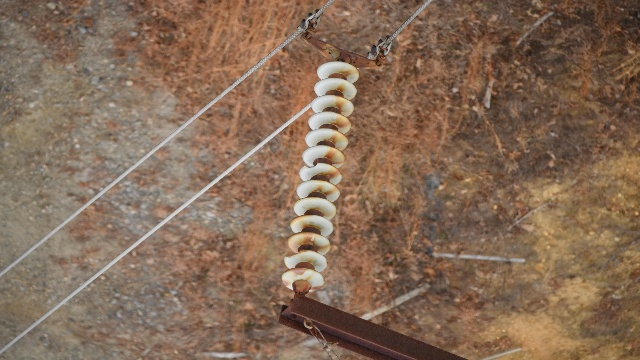broken_local: (302, 160, 320, 170), (285, 250, 303, 259)
insulator_unspecified: (279, 60, 360, 291)
pollution_flashover_local: (288, 231, 332, 255), (322, 148, 345, 166), (311, 183, 338, 196), (326, 130, 349, 144), (331, 114, 349, 131), (320, 166, 340, 180), (339, 67, 359, 78), (333, 95, 345, 112), (288, 265, 308, 275), (335, 83, 346, 93), (306, 284, 323, 290), (283, 280, 291, 288)
